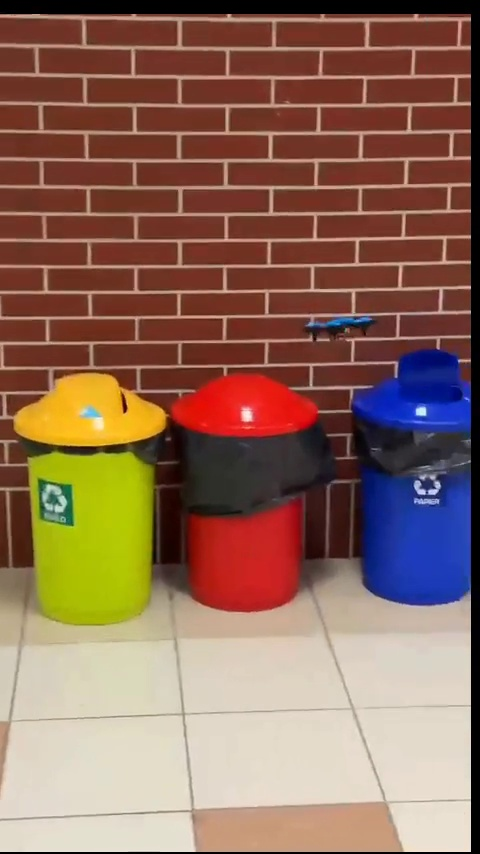drone: (305, 311, 381, 340)
